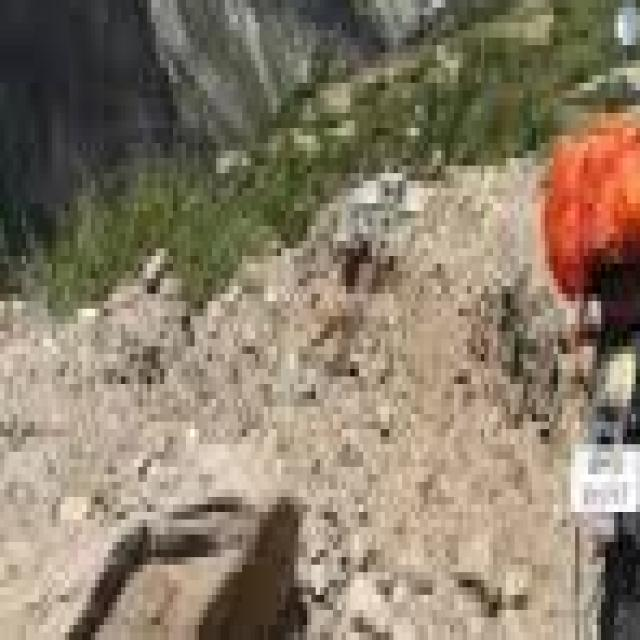bike: (549, 52, 640, 640)
